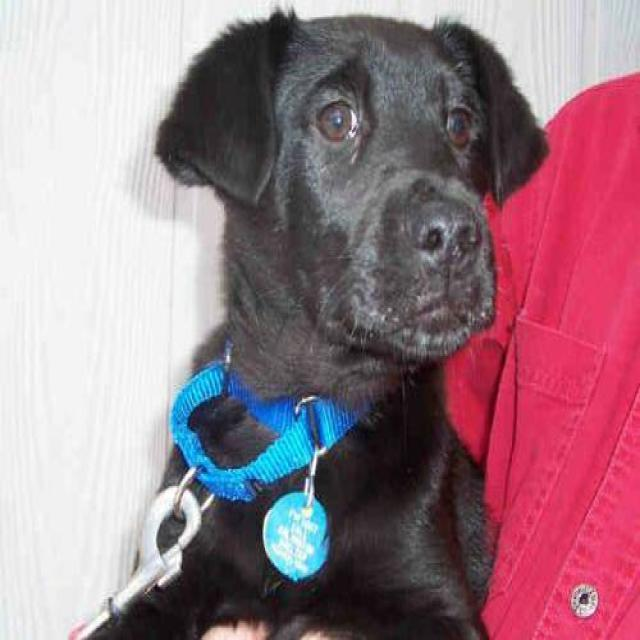dogs: (100, 3, 556, 640)
